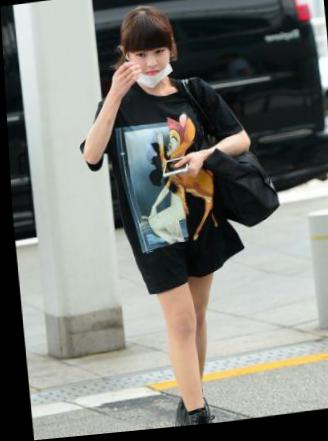WRONG: (129, 42, 174, 88)
